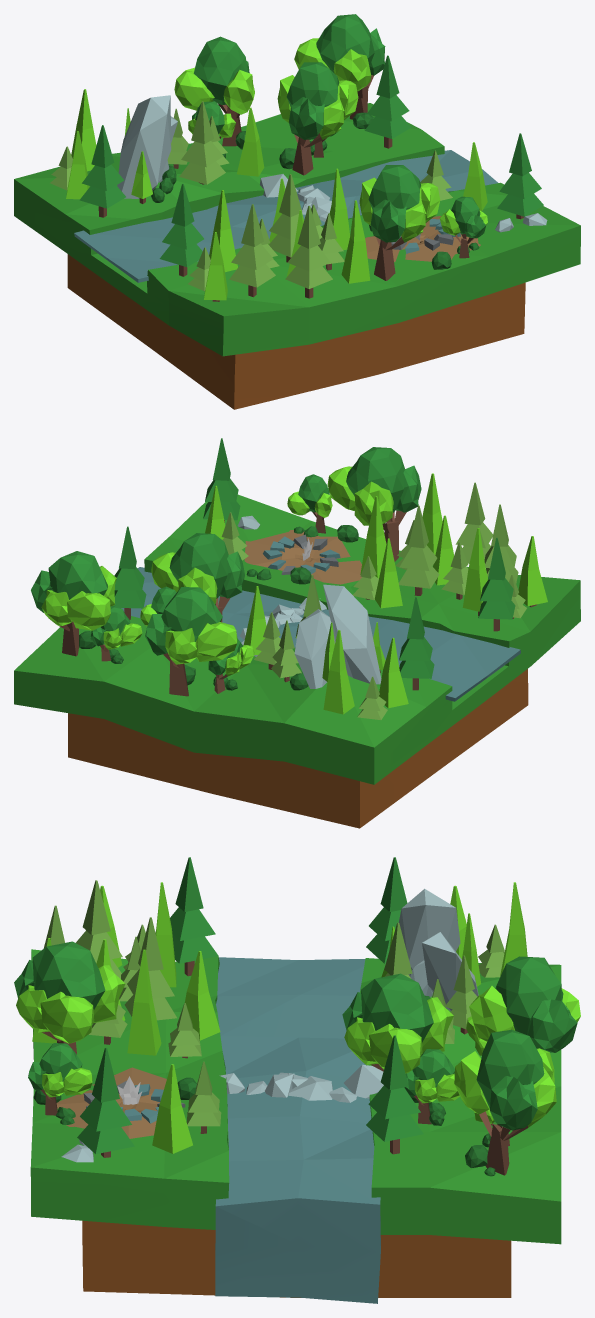
Rendered from forestLowPoly.fbx.
3 views of the same model, one above another, from view 1: azimuth 30°, elevation 25°; view 2: azimuth 150°, elevation 25°; view 3: azimuth 270°, elevation 25° (orthographic). The views are drawn at different scales.
Parts seen in each view (by area): view 1: Cube, Plane, Icosphere.035, Icosphere.031, Icosphere.028, Icosphere.006, Icosphere, Cube.013, Cube.003, Cube.020, Cube.019, Cube.017 (+21 smaller); view 2: Cube, Plane, Icosphere.028, Icosphere.006, Icosphere.035, Icosphere.031, Icosphere, Circle, Icosphere.001, Cube.012, Cube.017, Cube.019 (+25 smaller); view 3: Cube, Plane, Icosphere.006, Icosphere.035, Icosphere.031, Icosphere.028, Cube.020, Cube.010, Cube.017, Icosphere, Icosphere.036, Icosphere.030 (+21 smaller).
Boxes of the visible parts, x1,y1,x2,y2 form: Cube: (14,103,580,409); Plane: (74,150,497,282); Icosphere.035: (359,165,440,280); Icosphere.031: (277,62,358,175); Icosphere.028: (174,36,254,146); Icosphere.006: (294,14,385,119); Icosphere: (117,95,171,198); Cube.013: (285,206,332,298); Cube.003: (229,204,275,297); Cube.020: (364,55,411,148); Cube.019: (79,125,125,217); Cube.017: (159,183,203,276); Cube: (14,494,580,828); Plane: (121,567,520,701); Icosphere.028: (145,587,237,696); Icosphere.006: (31,551,116,656); Icosphere.035: (327,447,421,561); Icosphere.031: (151,533,244,622); Icosphere: (323,584,381,684); Circle: (244,530,361,584); Icosphere.001: (294,609,334,688); Cube.012: (398,505,439,595); Cube.017: (478,537,515,631); Cube.019: (399,597,434,690); Cube: (30,949,561,1297); Plane: (215,957,380,1303); Icosphere.006: (454,1029,556,1175); Icosphere.035: (14,941,125,1054); Icosphere.031: (342,973,453,1073); Icosphere.028: (469,956,580,1052); Cube.020: (366,1035,423,1154); Cube.010: (77,1047,134,1157); Cube.017: (170,857,218,976); Icosphere: (398,888,460,976); Icosphere.036: (28,1043,92,1115); Icosphere.030: (404,1049,459,1124).
Bounding box in the file's own units: 267 × 143 × 271.
